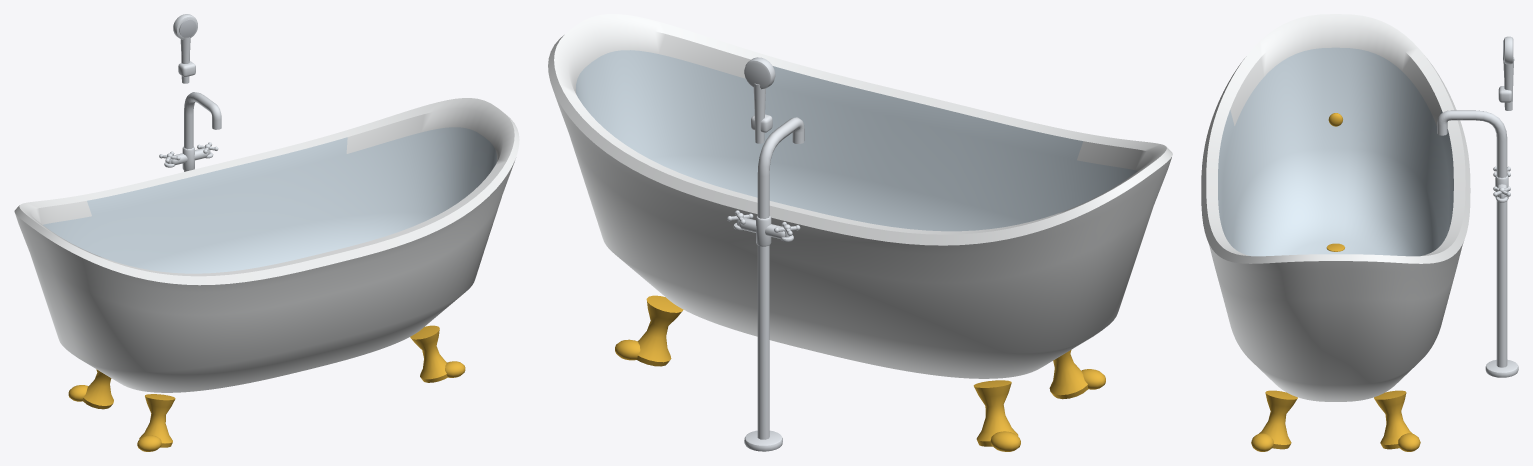
File: banheira_vitoriana_branca.glb
3 views of the same model, side by side, from view 1: azimuth 30°, elevation 25°; view 2: azimuth 150°, elevation 25°; view 3: azimuth 270°, elevation 25° (orthographic). The views are drawn at different scales.
Parts seen in each view (by area): view 1: banheira_vitoriana_branca; view 2: banheira_vitoriana_branca; view 3: banheira_vitoriana_branca.
Boxes of the visible parts, box(x1,y1,x2,y2) form: banheira_vitoriana_branca: box(14, 14, 519, 451); banheira_vitoriana_branca: box(548, 14, 1172, 451); banheira_vitoriana_branca: box(1201, 14, 1518, 451).
Bounding box in the file's own units: 1.74 × 1.12 × 0.955.
1 material, 1 textured.
